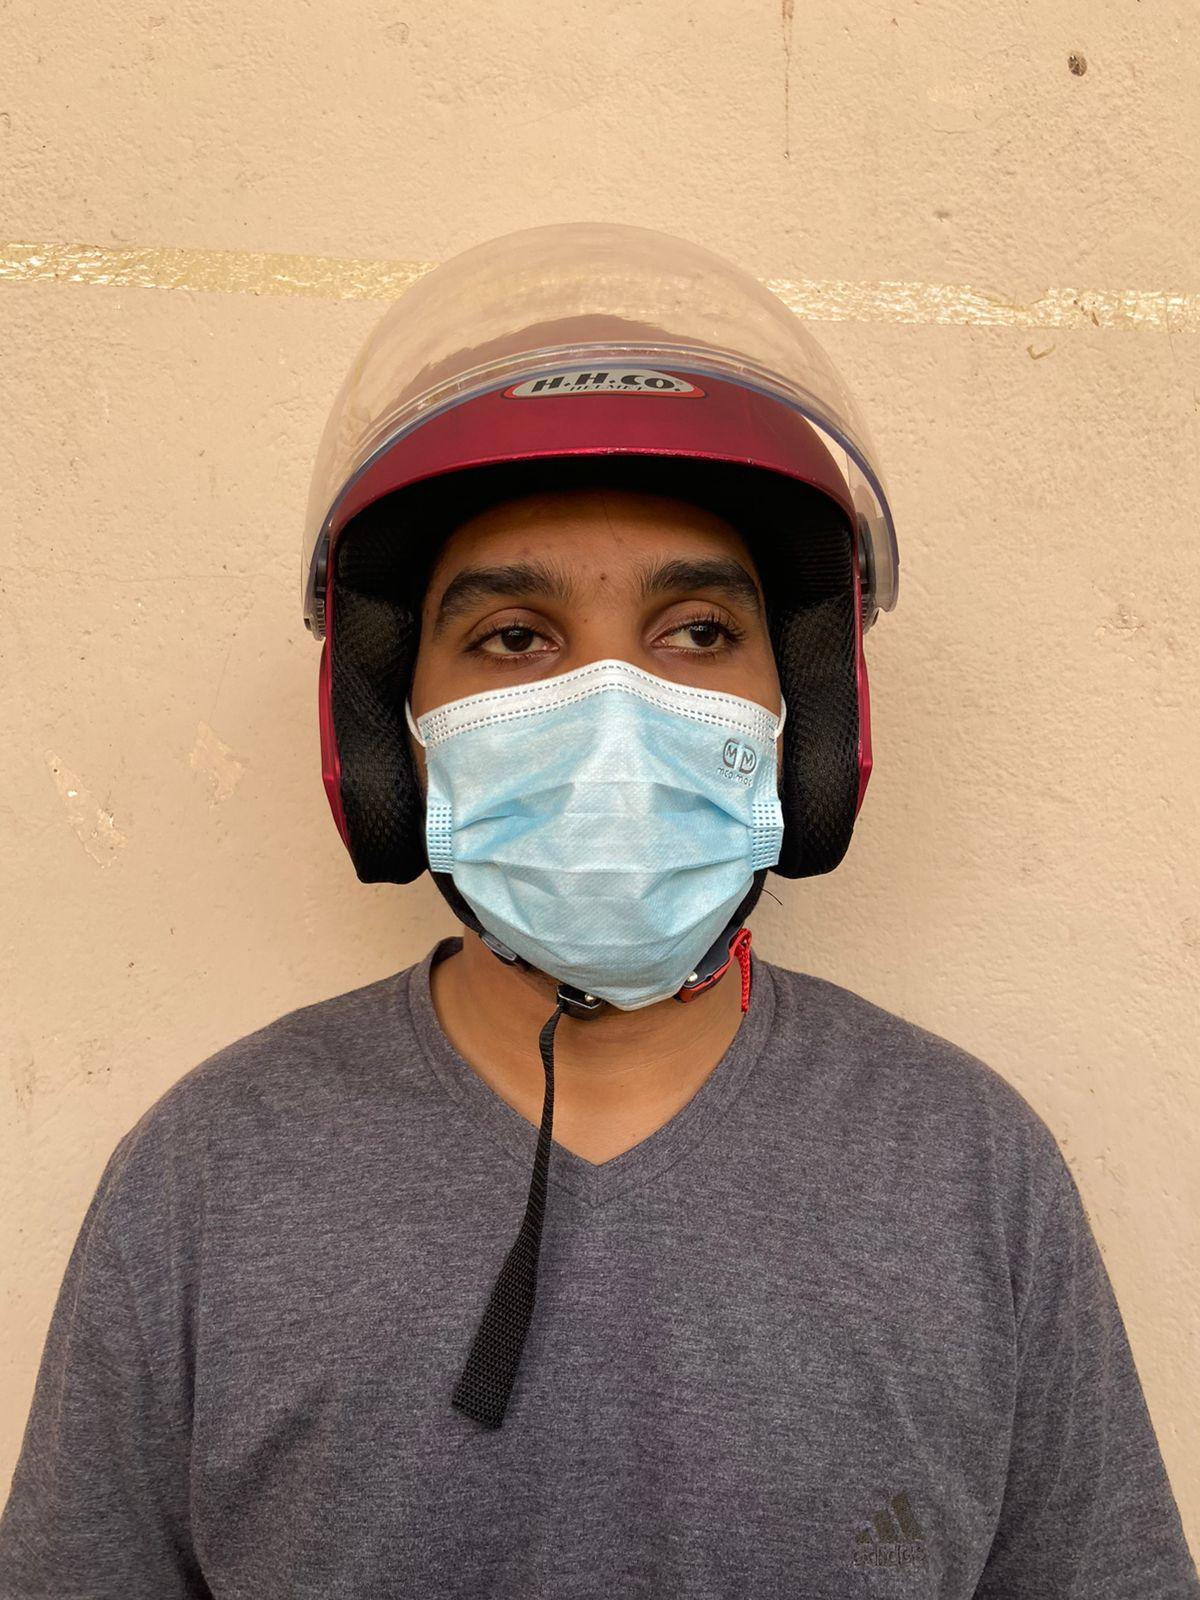helmet: (291, 220, 906, 889)
